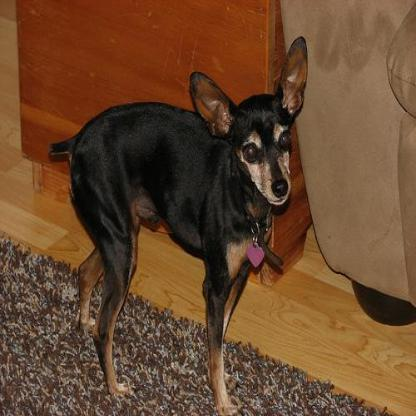miniature_pinscher: (50, 33, 307, 414)
